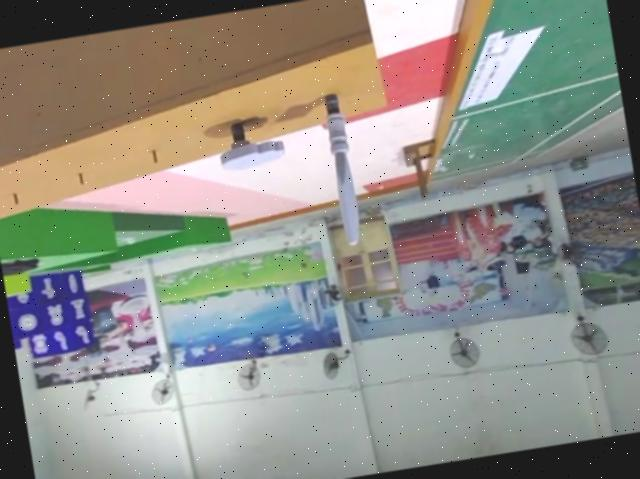Hand: (218, 116, 286, 173)
Sph: (317, 90, 366, 249)
